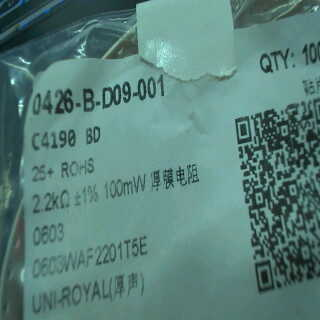2.2kR: (30, 187, 73, 214)
